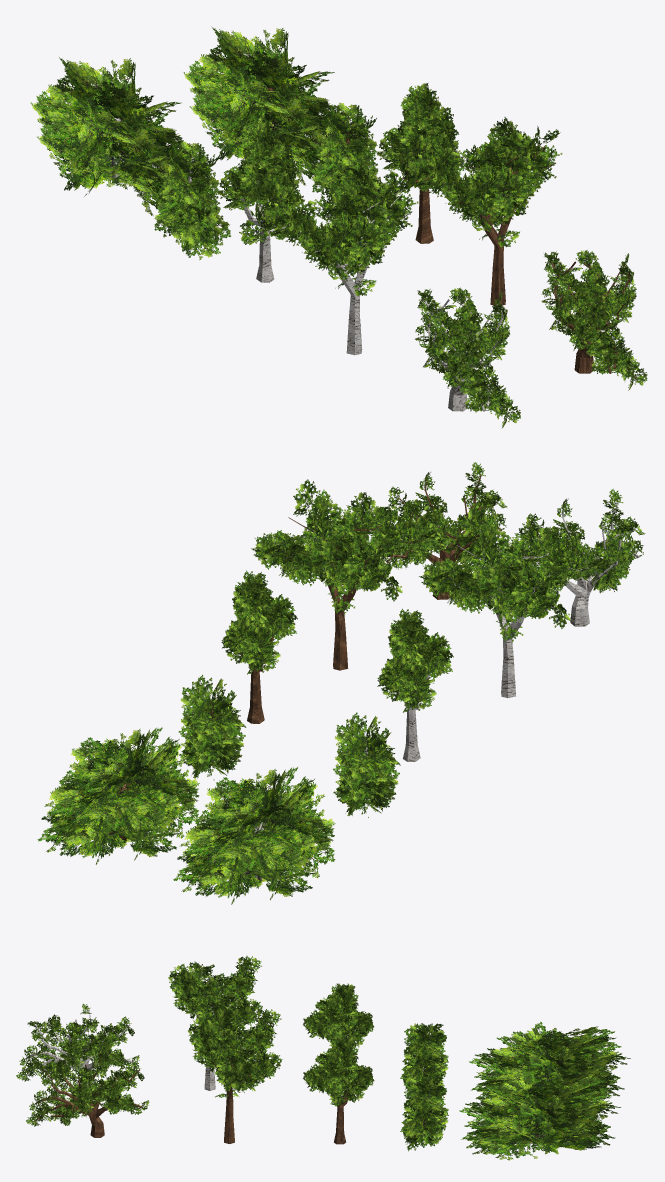
File: 3DLowPolyTreePack.fbx
3 renders of one model, top to bottom at view 1: azimuth 30°, elevation 25°; view 2: azimuth 150°, elevation 25°; view 3: azimuth 270°, elevation 25°, orthographic. The views are drawn at different scales.
Visible parts, largest first — view 1: Cube.009|green-leaves-tree-branch-PNG-stock-image-thumb40|Du (×12), Cube.008|green-leaves-tree-branch-PNG-stock-image-thumb40|Du (×11), Cube.003, Cube, Cube.002, Cube.001, Cube.005, Cube.004, Cube.007|green-leaves-tree-branch-PNG-stock-image-thumb40|Du, Cube.006|green-leaves-tree-branch-PNG-stock-image-thumb40|Du; view 2: Cube.009|green-leaves-tree-branch-PNG-stock-image-thumb40|Du (×12), Cube.008|green-leaves-tree-branch-PNG-stock-image-thumb40|Du (×12), Cube.002, Cube.003, Cube, Cube.001, Cube.004, Cube.005; view 3: Cube.008|green-leaves-tree-branch-PNG-stock-image-thumb40|Du (×17), Cube.009|green-leaves-tree-branch-PNG-stock-image-thumb40|Du (×11), Cube.001, Cube.002, Cube, Cube.004.
Part boxes in pixels (x1,y1,x2,y2): Cube.009|green-leaves-tree-branch-PNG-stock-image-thumb40|Du (×12): [37, 57, 183, 189]; Cube.008|green-leaves-tree-branch-PNG-stock-image-thumb40|Du (×11): [189, 26, 336, 158]; Cube.003: [258, 192, 411, 355]; Cube: [402, 143, 555, 305]; Cube.002: [423, 298, 510, 416]; Cube.001: [549, 259, 636, 378]; Cube.005: [236, 180, 274, 282]; Cube.004: [396, 148, 433, 243]; Cube.007|green-leaves-tree-branch-PNG-stock-image-thumb40|Du: [327, 102, 364, 135]; Cube.006|green-leaves-tree-branch-PNG-stock-image-thumb40|Du: [169, 141, 206, 173]; Cube.009|green-leaves-tree-branch-PNG-stock-image-thumb40|Du (×12): [186, 768, 335, 896]; Cube.008|green-leaves-tree-branch-PNG-stock-image-thumb40|Du (×12): [51, 728, 199, 857]; Cube.002: [535, 502, 639, 626]; Cube.003: [451, 530, 589, 697]; Cube: [283, 502, 420, 670]; Cube.001: [386, 475, 501, 599]; Cube.004: [239, 621, 274, 723]; Cube.005: [395, 655, 431, 761]; Cube.008|green-leaves-tree-branch-PNG-stock-image-thumb40|Du (×17): [465, 1071, 615, 1160]; Cube.009|green-leaves-tree-branch-PNG-stock-image-thumb40|Du (×11): [475, 1021, 621, 1089]; Cube.001: [35, 1054, 142, 1137]; Cube.002: [25, 1009, 133, 1086]; Cube: [201, 1025, 266, 1143]; Cube.004: [323, 1081, 357, 1144].
Size of the model in its own units: 2727 by 1665 by 6582.
3 materials, 3 textured.
